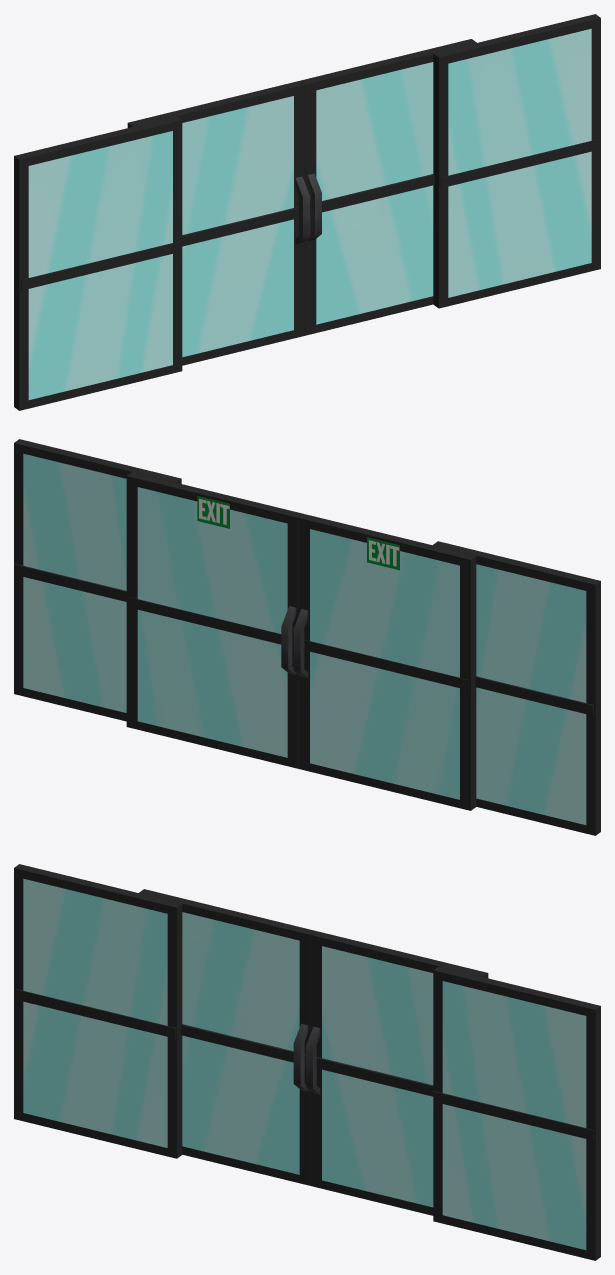
The model's file is slidingDoor.fbx.
3 renders of one model, top to bottom at view 1: azimuth 30°, elevation 25°; view 2: azimuth 150°, elevation 25°; view 3: azimuth 330°, elevation 25°, orthographic.
Visible parts, largest first — view 1: Sliding_door; view 2: Sliding_door; view 3: Sliding_door.
Boxes of the visible parts, x1,y1,x2,y2 form: Sliding_door: (14,14,600,410); Sliding_door: (14,439,600,835); Sliding_door: (14,864,600,1260).
Bounding box in the file's own units: 8.16 × 3.37 × 0.5006.
